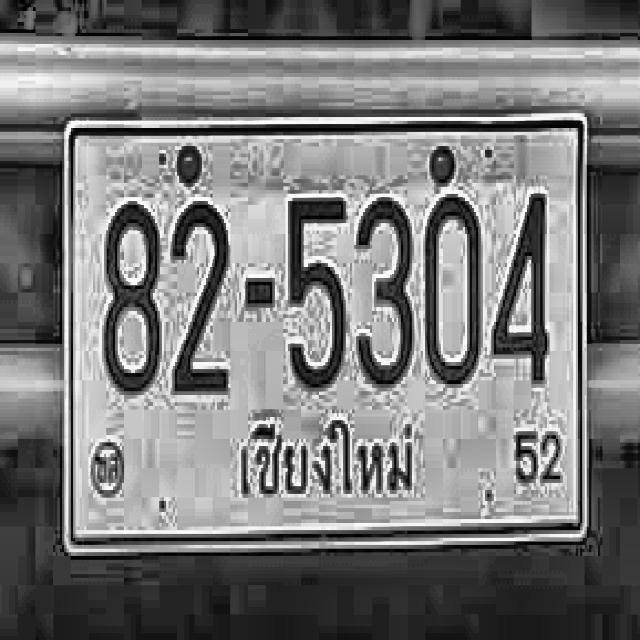license-plate: (62, 111, 590, 556)
